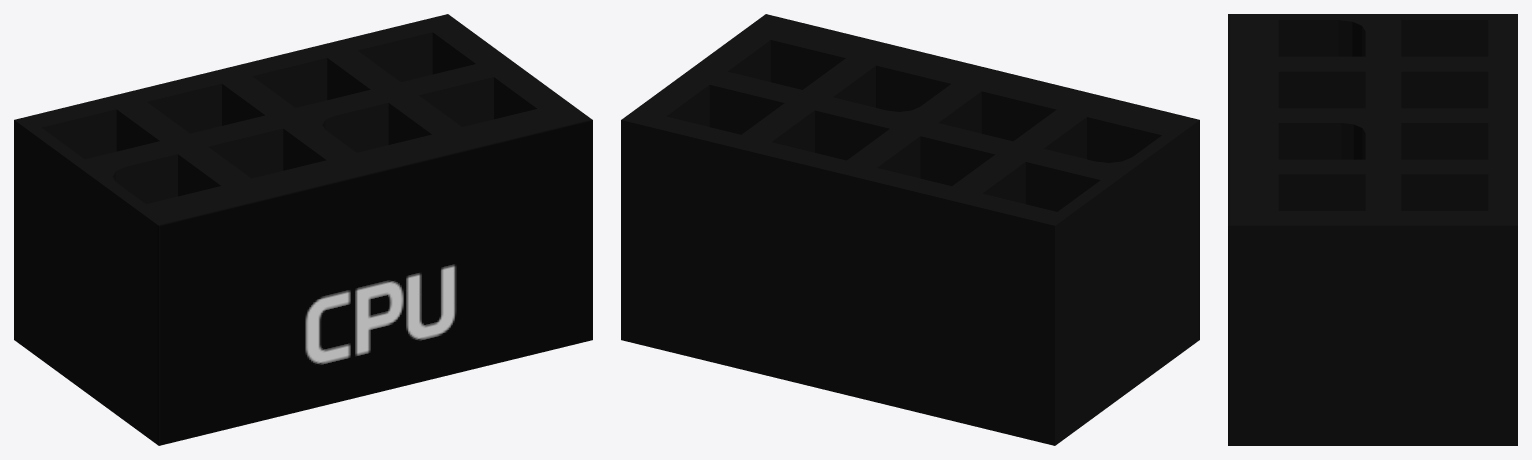
The model's file is cpu-pcie2.fbx.
3 renders of one model, left to right at view 1: azimuth 30°, elevation 25°; view 2: azimuth 150°, elevation 25°; view 3: azimuth 270°, elevation 25°, orthographic.
Parts seen in each view (by area): view 1: 立方體.011; view 2: 立方體.011; view 3: 立方體.011.
Boxes of the visible parts, bbox=[...] form: 立方體.011: bbox=[14, 14, 592, 445]; 立方體.011: bbox=[621, 14, 1199, 445]; 立方體.011: bbox=[1228, 14, 1517, 445].
Bounding box in the file's own units: 47.26 × 22.91 × 27.32.
